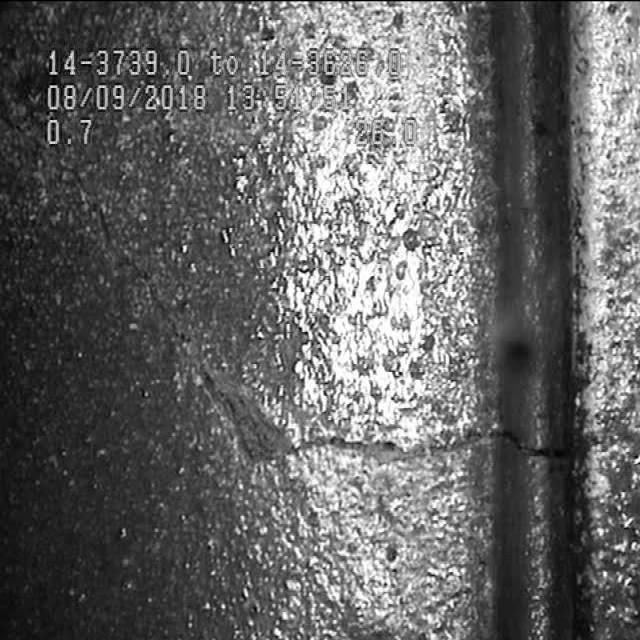Crack: (99, 280, 453, 496)
